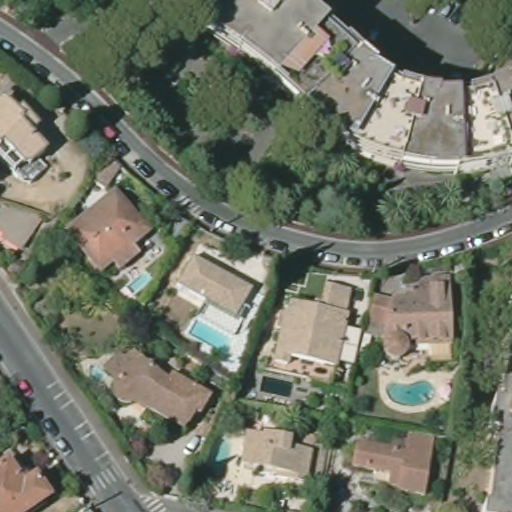pool: (190, 317, 237, 355), (385, 375, 437, 407), (126, 270, 152, 296)
